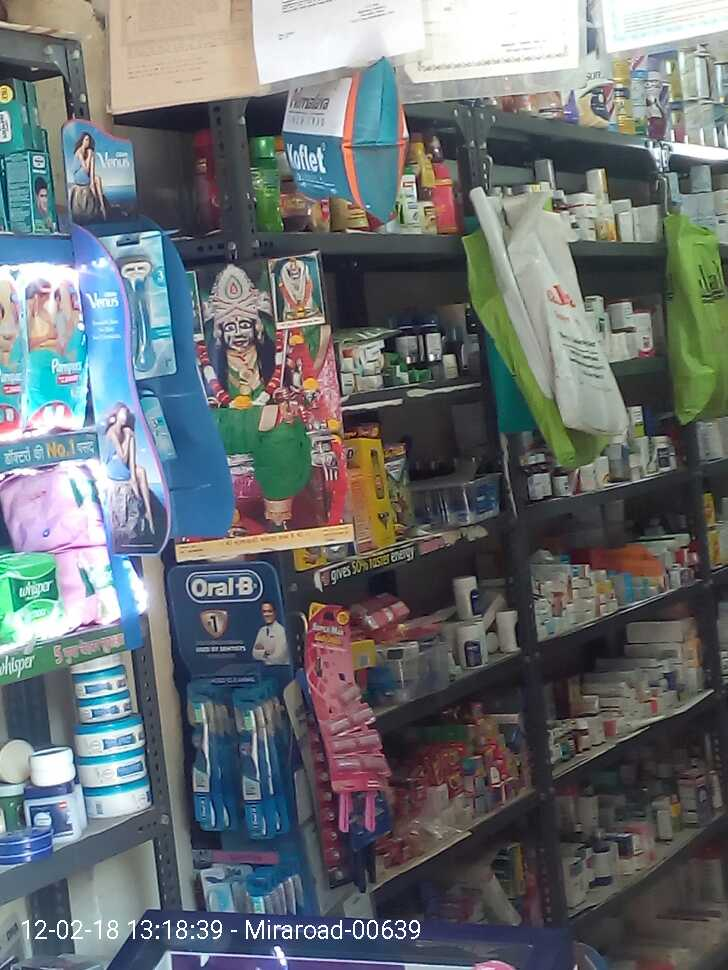beauty: (95, 232, 176, 390)
pharmacy: (20, 253, 94, 434), (223, 673, 283, 844), (183, 681, 223, 840), (7, 560, 67, 647)
